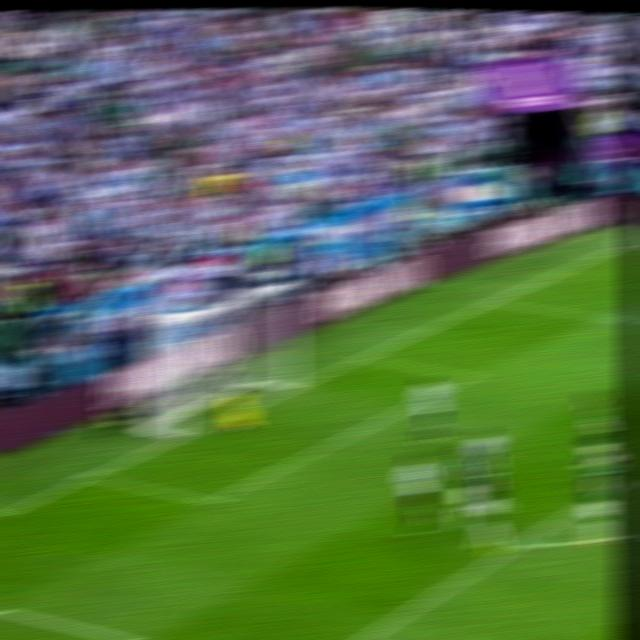bigarea_top_outter: (481, 295, 505, 307)
bottom_arc_area_intersection: (506, 532, 536, 554)
corner: (615, 235, 636, 246)
smallarea_bottom_inner: (195, 484, 229, 515)
smallarea_bottom_outter: (76, 463, 107, 488)
smallarea_top_inner: (458, 367, 487, 384)
smallarea_top_outter: (350, 347, 378, 366)
